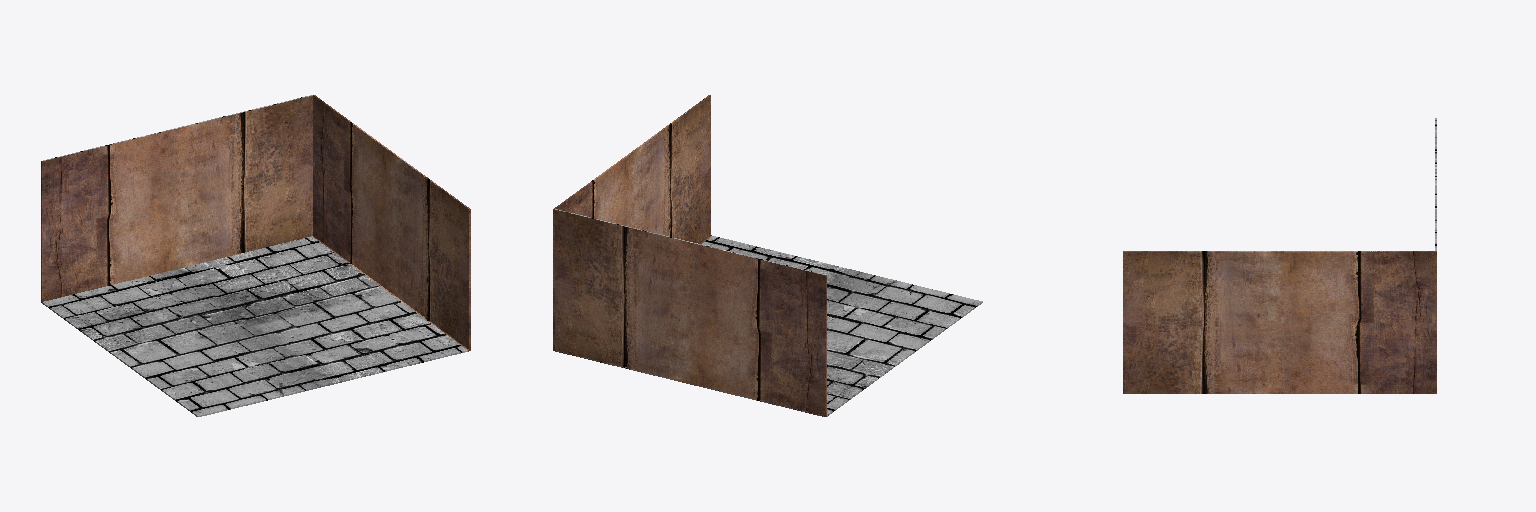
3 renders of one model, left to right at view 1: azimuth 30°, elevation 25°; view 2: azimuth 150°, elevation 25°; view 3: azimuth 270°, elevation 25°, orthographic.
Parts seen in each view (by area): view 1: Plane.002; view 2: Plane.002; view 3: Plane.002.
Boxes of the visible parts, x1=… form: Plane.002: x1=41, y1=95, x2=470, y2=416; Plane.002: x1=553, y1=95, x2=982, y2=416; Plane.002: x1=1123, y1=118, x2=1436, y2=393.
Bounding box in the file's own units: 20.1 × 10 × 20.
Materials: 1 (1 with a texture image).